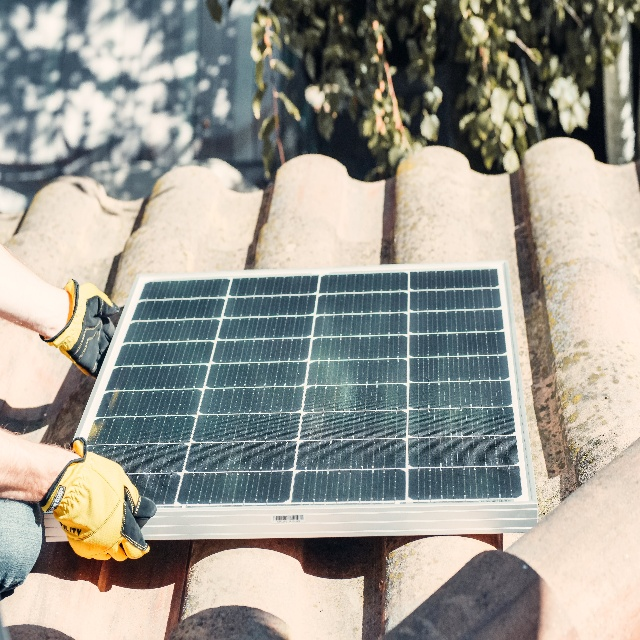Guantes: (42, 439, 161, 561), (55, 281, 120, 368)
